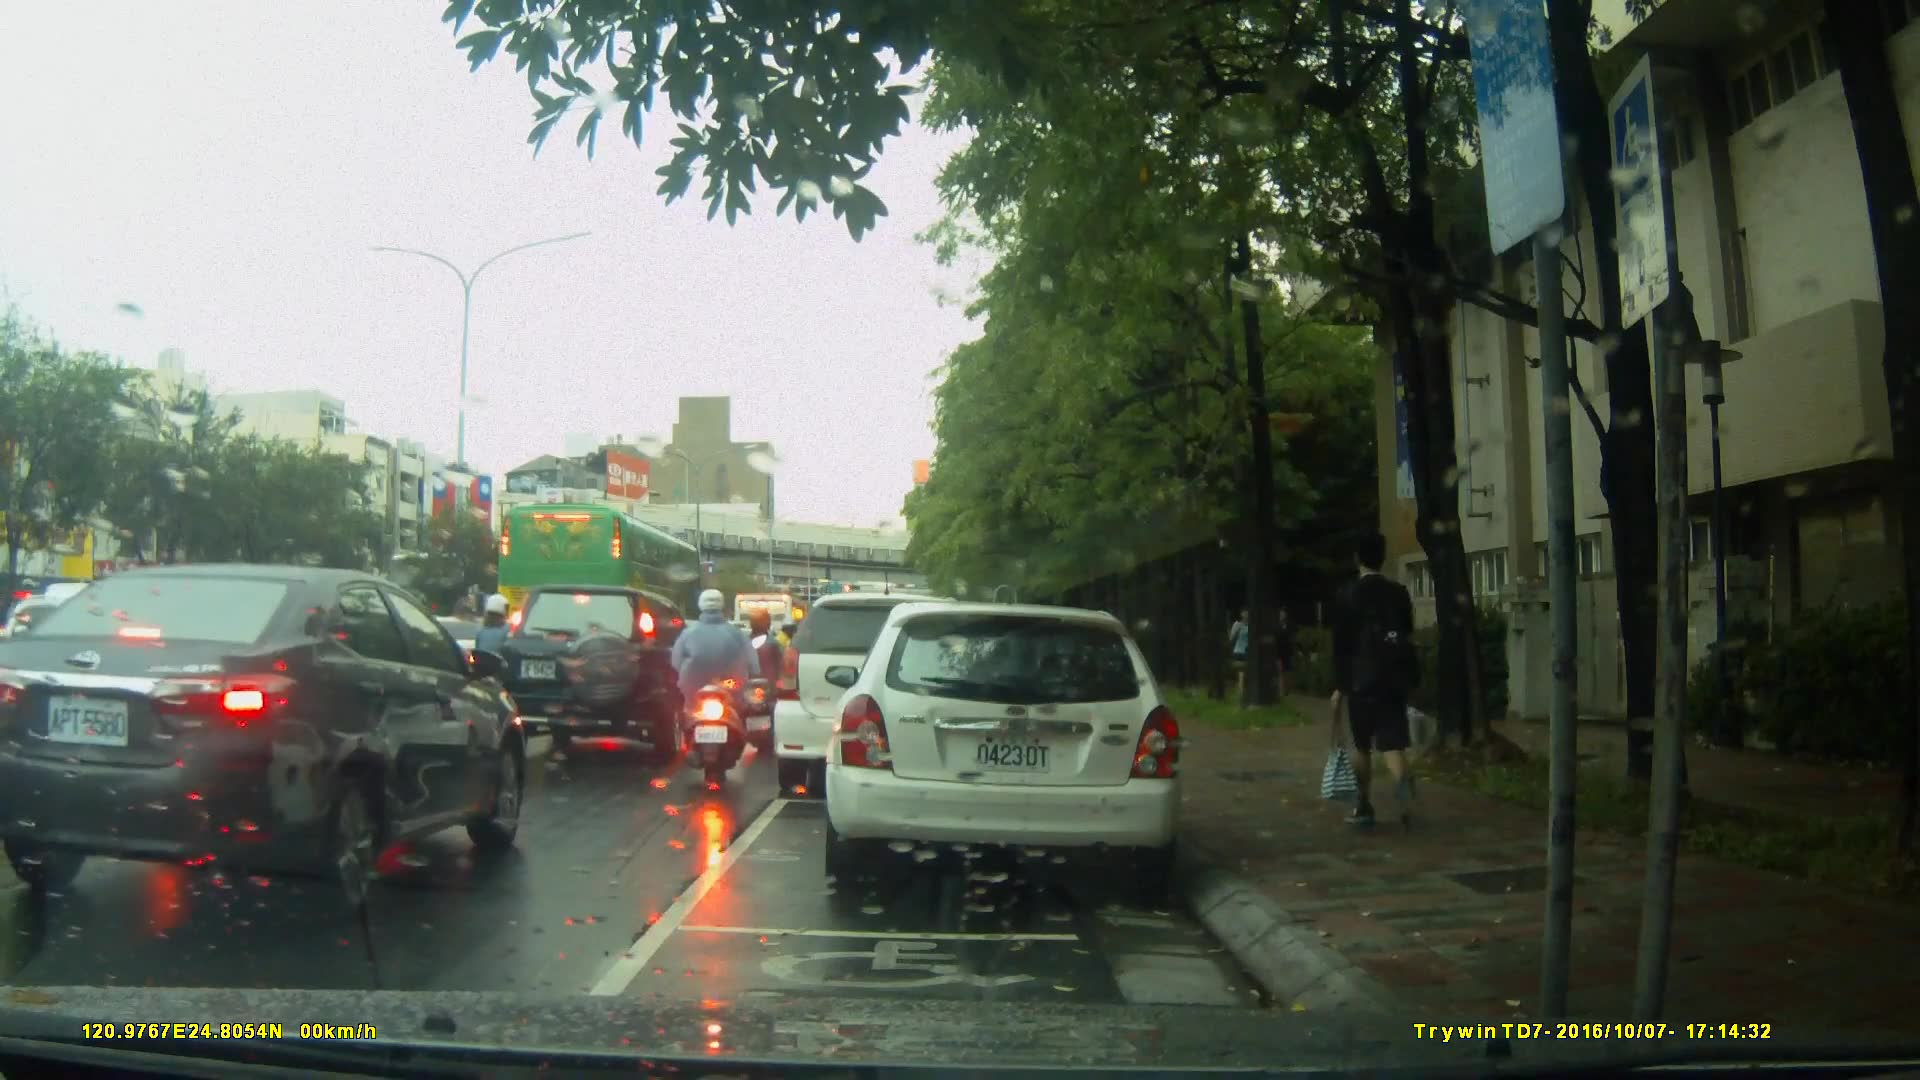pedestrian: (1314, 530, 1436, 842)
rider: (680, 589, 768, 783), (456, 587, 535, 715), (741, 606, 798, 751), (771, 612, 810, 705)
vehicle: (1, 562, 537, 925), (831, 592, 1196, 897), (770, 592, 999, 799), (493, 580, 705, 763), (495, 502, 707, 656)
